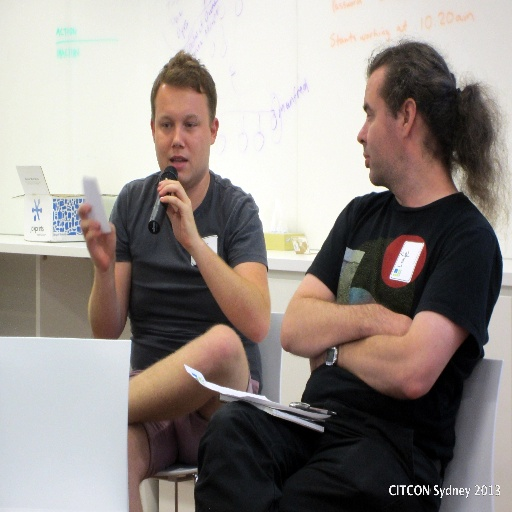hand: (75, 202, 119, 273), (156, 178, 197, 249), (307, 351, 325, 372), (398, 313, 413, 336)
